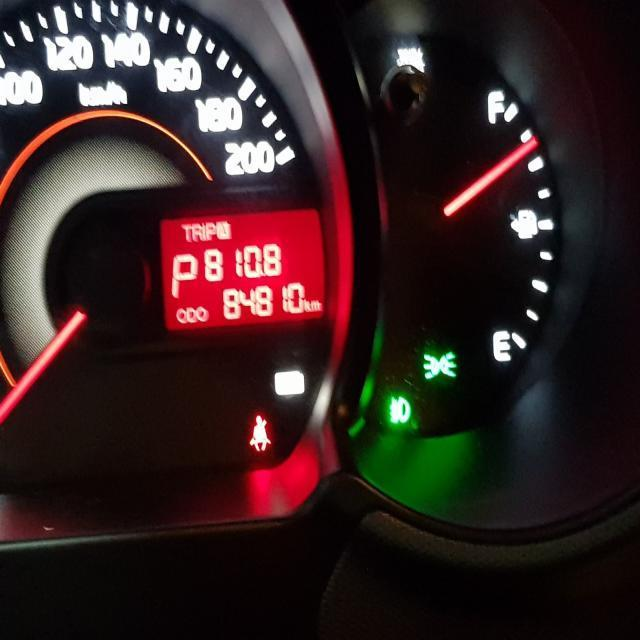SideLamp: (422, 350, 454, 380)
